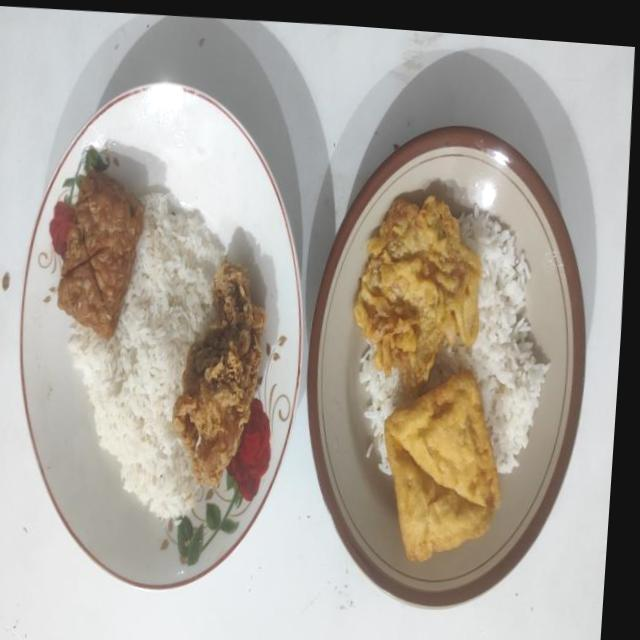nasi_putih: (68, 194, 223, 517), (438, 207, 549, 473), (358, 340, 402, 436)
tahu_goreng: (384, 369, 500, 560)
tempe_goreng: (57, 168, 144, 338)
